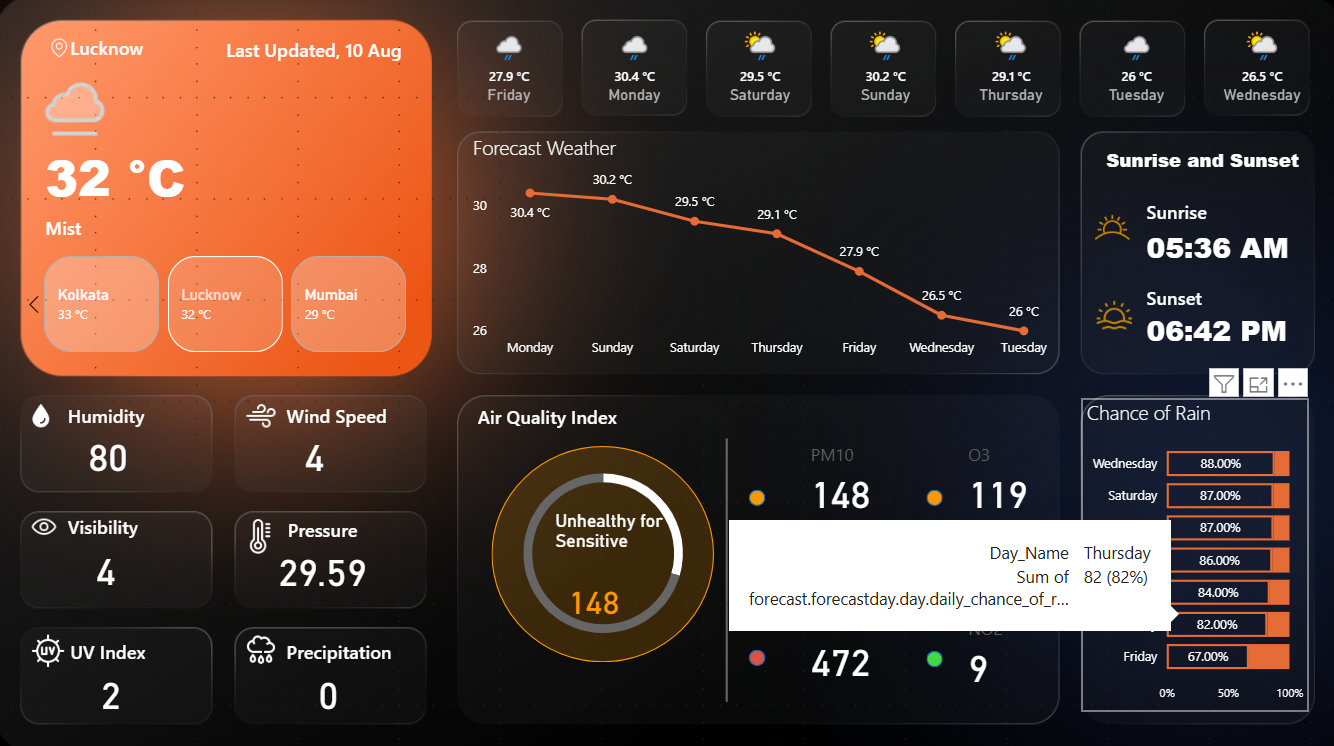

The page's visual inventory and layout, read from the dashboard file:
{"tool":"powerbi","page":{"name":"Page 1","canvas":[1280,720],"ordinal":0},"visuals":[{"type":"shape","box":[459.5,427.5,209.9,204.8],"z":0},{"type":"advancedSlicerVisual","fields":{"Values":["Locations.location.name"]},"box":[9.6,240.1,408.9,102.9],"z":1000},{"type":"shape","box":[48,123.5,237.4,96.1],"z":2000},{"type":"shape","box":[48,197.6,312.9,42.5],"z":3000},{"type":"shape","box":[72.7,32.9,146.8,31.6],"z":4000},{"type":"shape","box":[193.5,34.3,193.5,31.6],"z":5000},{"type":"image","box":[15.1,35.7,93.3,27.4],"z":6000},{"type":"cardVisual","fields":{"Data":["Min(Current.current.condition.icon)"]},"box":[9.6,35.7,124.9,135.8],"z":7000},{"type":"image","box":[27.4,381.5,34.3,32.9],"z":8000},{"type":"image","box":[17.8,484.4,59,37],"z":9000},{"type":"image","box":[26.1,599.7,50.8,42.5],"z":10000},{"type":"image","box":[233.3,377.4,39.8,42.5],"z":11000},{"type":"image","box":[230.5,484.4,42.5,54.9],"z":12000},{"type":"image","box":[229.2,598.3,48,42.5],"z":13000},{"type":"shape","box":[70,381.5,193.5,31.6],"z":14000},{"type":"shape","box":[70,487.1,193.5,31.6],"z":15000},{"type":"shape","box":[72.7,605.1,193.5,31.6],"z":16000},{"type":"shape","box":[277.2,381.5,193.5,31.6],"z":17000},{"type":"shape","box":[278.6,489.9,193.5,31.6],"z":18000},{"type":"shape","box":[277.2,605.1,193.5,31.6],"z":19000},{"type":"cardVisual","fields":{"Data":["Sum(Current.current.humidity)"]},"box":[72.7,359.5,149.6,149.6],"z":20000},{"type":"cardVisual","fields":{"Data":["Sum(Current.current.vis_km)"]},"box":[79.6,466.6,149.6,149.6],"z":21000},{"type":"cardVisual","fields":{"Data":["Sum(Current.current.uv)"]},"box":[84.5,598.8,148.9,121.5],"z":22000},{"type":"cardVisual","fields":{"Data":["Sum(Current.current.vis_km)"]},"box":[277.2,359.5,149.6,149.6],"z":23000},{"type":"cardVisual","fields":{"Data":["Sum(Current.current.pressure_in)"]},"box":[252,467,150,150],"z":24000},{"type":"cardVisual","fields":{"Data":["Sum(Current.current.precip_mm)"]},"box":[290.4,598.8,150,121.5],"z":25000},{"type":"advancedSlicerVisual","fields":{"Values":["Forecast.Day_Name"]},"box":[427.5,22.8,836.9,85.3],"z":26000},{"type":"lineChart","title":"Forecast Weather","fields":{"Category":["Forecast.Day_Name"],"Y":["Sum(Forecast.forecast.forecastday.day.avgtemp_c)"]},"box":[449.2,130.5,563.7,221.5],"z":27000},{"type":"shape","box":[1042.5,139.1,194.5,32],"z":28000},{"type":"shape","box":[1092.9,212.9,141.5,49.2],"z":29000},{"type":"shape","box":[1092.9,155.1,87.4,97.2],"z":30000},{"type":"shape","box":[1092.9,237.5,87.4,97.2],"z":31000},{"type":"shape","box":[1092.9,291.7,141.5,49.2],"z":32000},{"type":"image","box":[1033.8,190.8,54.2,56.6],"z":33000},{"type":"image","box":[1040,278.2,43.1,48],"z":34000},{"type":"hundredPercentStackedBarChart","title":"Chance of Rain","fields":{"Y":["Sum(Forecast.forecast.forecastday.day.daily_chance_of_rain)","_Measures.Left_value_Rain"],"Category":["Forecast.Day_Name"]},"box":[1031.4,381.5,215.4,296.6],"z":35000},{"type":"shape","box":[459.1,382.8,194.5,32],"z":36000},{"type":"cardVisual","title":"PM10","fields":{"Data":["Sum(Current.current.air_quality.pm2_5)"]},"box":[899.8,491.5,120.3,98.6],"z":37000},{"type":"cardVisual","title":"PM10","fields":{"Data":["Sum(Current.current.air_quality.so2)"]},"box":[757.8,487.7,106.2,98.6],"z":38000},{"type":"cardVisual","title":"PM10","fields":{"Data":["Sum(Current.current.air_quality.co)"]},"box":[757.8,565.8,157.4,98.6],"z":39000},{"type":"cardVisual","title":"PM10","fields":{"Data":["Sum(Current.current.air_quality.o3)"]},"box":[906.2,407,106.2,98.6],"z":40000},{"type":"cardVisual","title":"PM10","fields":{"Data":["Sum(Current.current.air_quality.pm10)"]},"box":[757.8,407,106.2,98.6],"z":41000},{"type":"cardVisual","title":"PM10","fields":{"Data":["Sum(Current.current.air_quality.no2)"]},"box":[906.2,570.9,120.3,98.6],"z":42000},{"type":"shape","box":[715.5,468.5,15.4,15.4],"z":43000},{"type":"shape","box":[715.5,546.6,15.4,15.4],"z":44000},{"type":"shape","box":[715.5,619.5,15.4,15.4],"z":45000},{"type":"shape","box":[884.5,468.5,15.4,15.4],"z":46000},{"type":"shape","box":[884.5,546.6,15.4,15.4],"z":47000},{"type":"shape","box":[884.5,620.8,15.4,15.4],"z":48000},{"type":"shape","box":[619.5,419.8,149.8,249.6],"z":49000},{"type":"cardVisual","fields":{"Data":["Sum(Current.current.air_quality.pm10)"]},"box":[527.4,487.7,142.1,133.1],"z":50000},{"type":"donutChart","title":"PM10","fields":{"Y":["Sum(Current.current.air_quality.pm10)","_Measures.Left_value_PM10"]},"box":[441.6,427.5,245.8,199.7],"z":51000}]}

Visuals, with their boxes in screenshot pixels (x1, y1, x2, y2), scaled from the page's 1280x720 canvas onto the 1334x746 screenshot:
shape: {"left": 479, "top": 443, "right": 698, "bottom": 655}
advancedSlicerVisual - Locations.location.name: {"left": 10, "top": 249, "right": 436, "bottom": 355}
shape: {"left": 50, "top": 128, "right": 297, "bottom": 228}
shape: {"left": 50, "top": 205, "right": 376, "bottom": 249}
shape: {"left": 76, "top": 34, "right": 229, "bottom": 67}
shape: {"left": 202, "top": 36, "right": 403, "bottom": 68}
image: {"left": 16, "top": 37, "right": 113, "bottom": 65}
cardVisual - Min(Current.current.condition.icon): {"left": 10, "top": 37, "right": 140, "bottom": 178}
image: {"left": 29, "top": 395, "right": 64, "bottom": 429}
image: {"left": 19, "top": 502, "right": 80, "bottom": 540}
image: {"left": 27, "top": 621, "right": 80, "bottom": 665}
image: {"left": 243, "top": 391, "right": 285, "bottom": 435}
image: {"left": 240, "top": 502, "right": 285, "bottom": 559}
image: {"left": 239, "top": 620, "right": 289, "bottom": 664}
shape: {"left": 73, "top": 395, "right": 275, "bottom": 428}
shape: {"left": 73, "top": 505, "right": 275, "bottom": 537}
shape: {"left": 76, "top": 627, "right": 277, "bottom": 660}
shape: {"left": 289, "top": 395, "right": 491, "bottom": 428}
shape: {"left": 290, "top": 508, "right": 492, "bottom": 540}
shape: {"left": 289, "top": 627, "right": 491, "bottom": 660}
cardVisual - Sum(Current.current.humidity): {"left": 76, "top": 372, "right": 232, "bottom": 527}
cardVisual - Sum(Current.current.vis_km): {"left": 83, "top": 483, "right": 239, "bottom": 638}
cardVisual - Sum(Current.current.uv): {"left": 88, "top": 620, "right": 243, "bottom": 745}
cardVisual - Sum(Current.current.vis_km): {"left": 289, "top": 372, "right": 445, "bottom": 527}
cardVisual - Sum(Current.current.pressure_in): {"left": 263, "top": 484, "right": 419, "bottom": 639}
cardVisual - Sum(Current.current.precip_mm): {"left": 303, "top": 620, "right": 459, "bottom": 745}
advancedSlicerVisual - Forecast.Day_Name: {"left": 446, "top": 24, "right": 1318, "bottom": 112}
"Forecast Weather" lineChart: {"left": 468, "top": 135, "right": 1056, "bottom": 365}
shape: {"left": 1086, "top": 144, "right": 1289, "bottom": 177}
shape: {"left": 1139, "top": 221, "right": 1286, "bottom": 272}
shape: {"left": 1139, "top": 161, "right": 1230, "bottom": 261}
shape: {"left": 1139, "top": 246, "right": 1230, "bottom": 347}
shape: {"left": 1139, "top": 302, "right": 1286, "bottom": 353}
image: {"left": 1077, "top": 198, "right": 1134, "bottom": 256}
image: {"left": 1084, "top": 288, "right": 1129, "bottom": 338}
"Chance of Rain" hundredPercentStackedBarChart: {"left": 1075, "top": 395, "right": 1299, "bottom": 703}
shape: {"left": 478, "top": 397, "right": 681, "bottom": 430}
"PM10" cardVisual: {"left": 938, "top": 509, "right": 1063, "bottom": 611}
"PM10" cardVisual: {"left": 790, "top": 505, "right": 900, "bottom": 607}
"PM10" cardVisual: {"left": 790, "top": 586, "right": 954, "bottom": 688}
"PM10" cardVisual: {"left": 944, "top": 422, "right": 1055, "bottom": 524}
"PM10" cardVisual: {"left": 790, "top": 422, "right": 900, "bottom": 524}
"PM10" cardVisual: {"left": 944, "top": 592, "right": 1070, "bottom": 694}
shape: {"left": 746, "top": 485, "right": 762, "bottom": 501}
shape: {"left": 746, "top": 566, "right": 762, "bottom": 582}
shape: {"left": 746, "top": 642, "right": 762, "bottom": 658}
shape: {"left": 922, "top": 485, "right": 938, "bottom": 501}
shape: {"left": 922, "top": 566, "right": 938, "bottom": 582}
shape: {"left": 922, "top": 643, "right": 938, "bottom": 659}
shape: {"left": 646, "top": 435, "right": 802, "bottom": 694}
cardVisual - Sum(Current.current.air_quality.pm10): {"left": 550, "top": 505, "right": 698, "bottom": 643}
"PM10" donutChart: {"left": 460, "top": 443, "right": 716, "bottom": 650}
